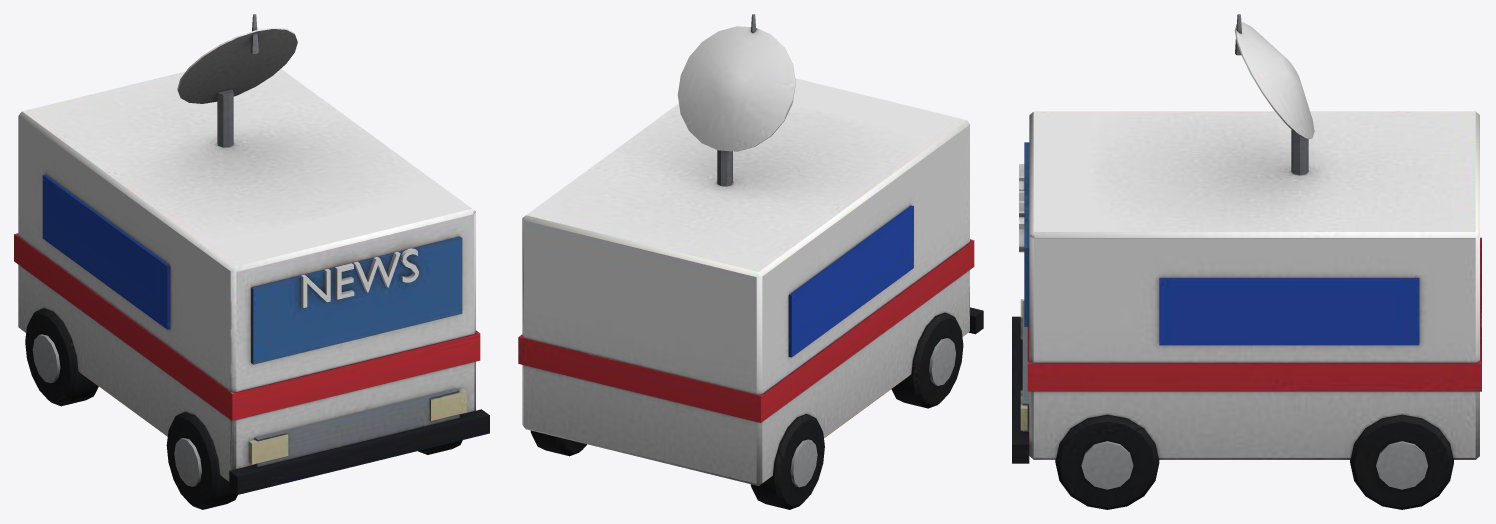
File: furgoneta.glb
3 views of the same model, side by side, from view 1: azimuth 30°, elevation 25°; view 2: azimuth 150°, elevation 25°; view 3: azimuth 270°, elevation 25° (orthographic). The views are drawn at different scales.
Visible parts, largest first — view 1: furgoneta; view 2: furgoneta; view 3: furgoneta.
Part boxes in pixels (bbox=[...]): furgoneta: bbox=[14, 14, 489, 509]; furgoneta: bbox=[518, 14, 983, 509]; furgoneta: bbox=[1012, 14, 1481, 509].
Size of the model in its own units: 1.82 by 2.75 by 2.71.
Materials: 1 (1 with a texture image).
